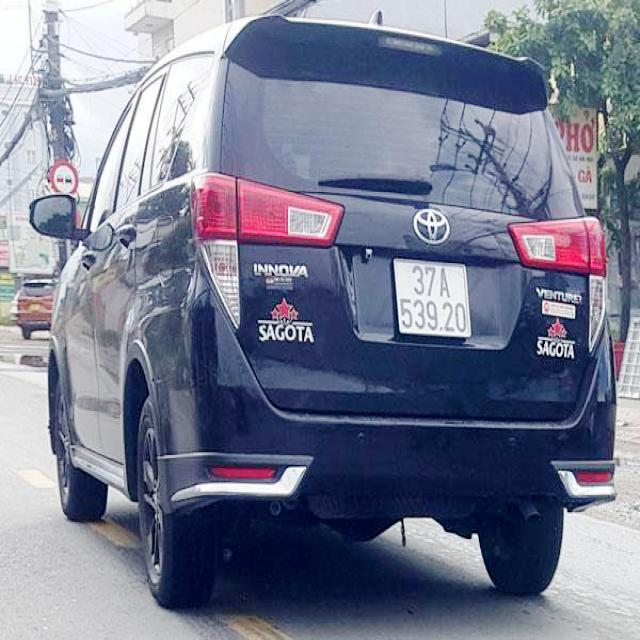license_plate: (395, 258, 470, 340)
